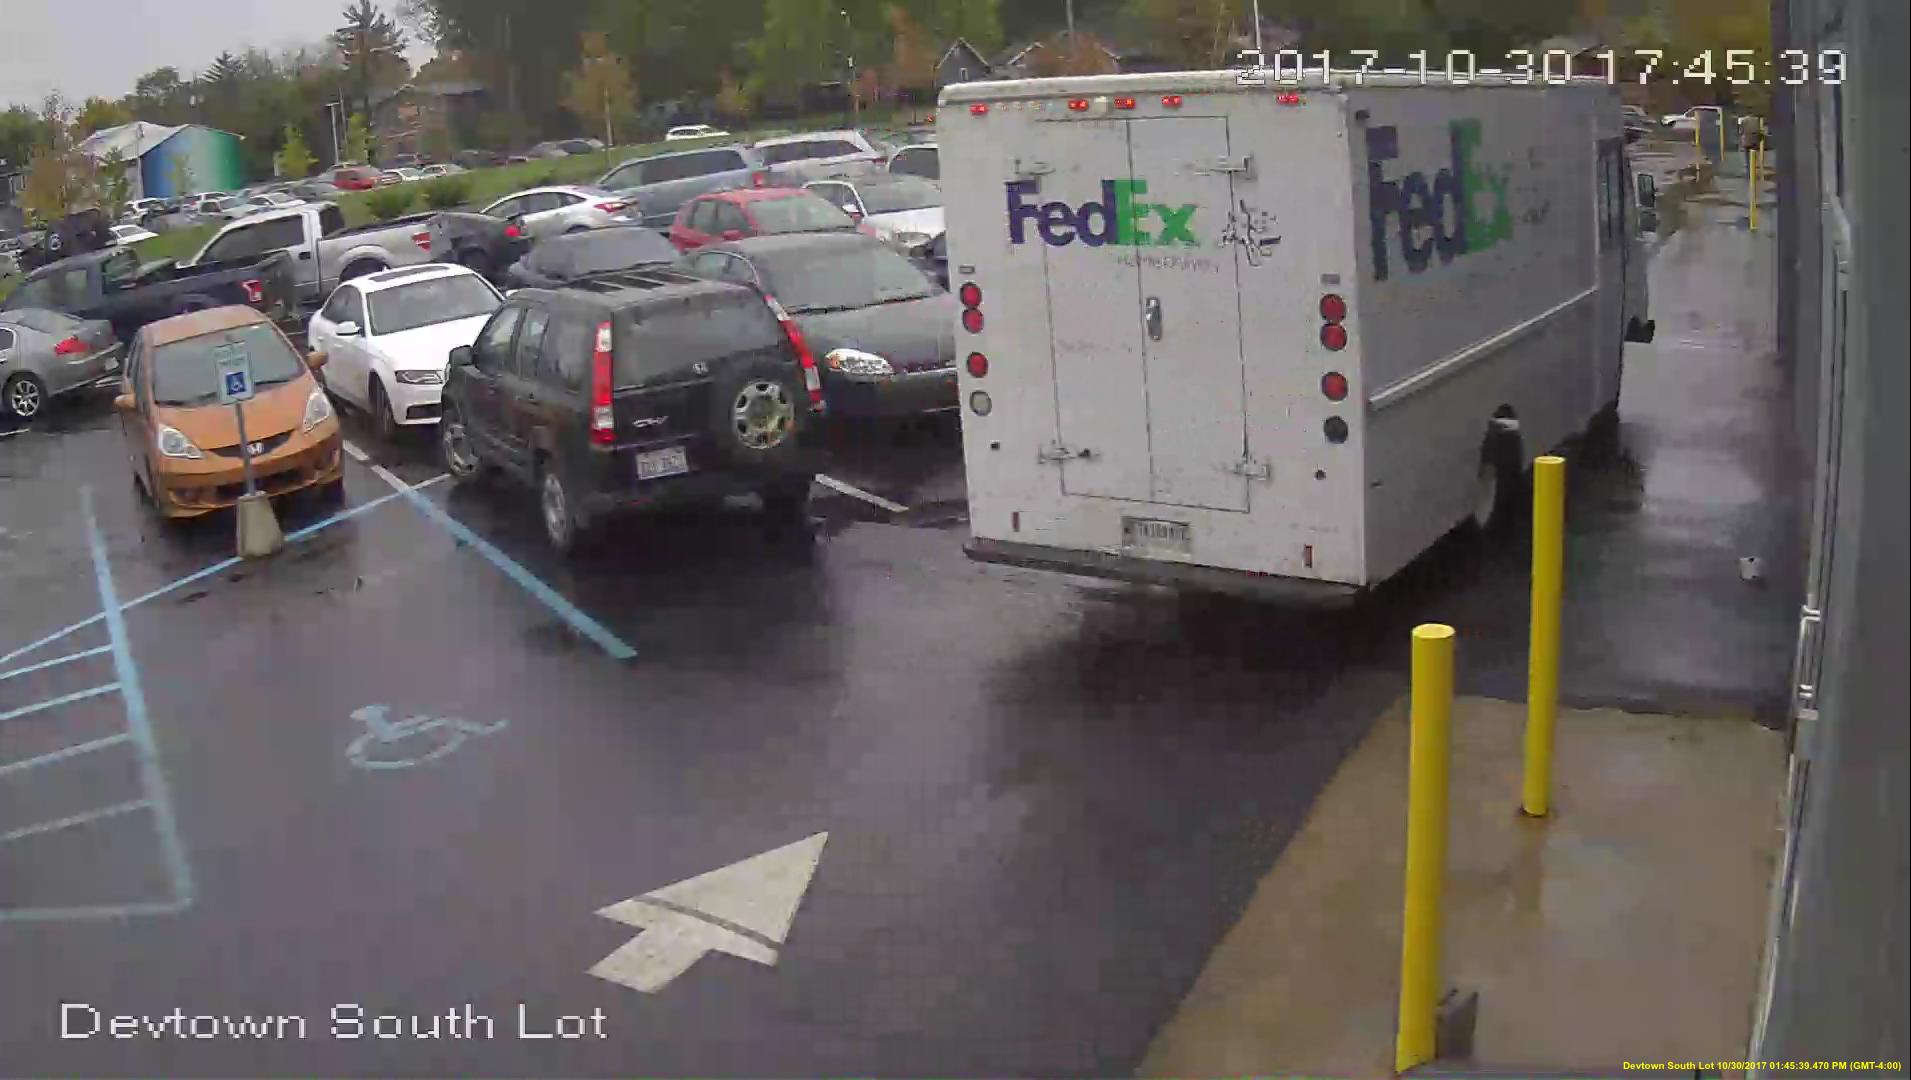fedex_truck: (945, 66, 1645, 600)
